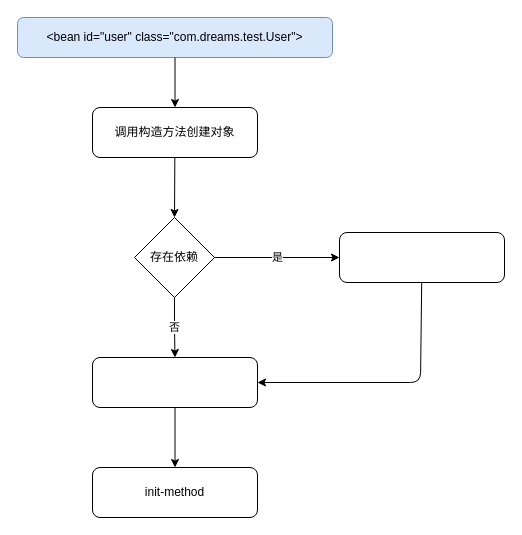
Image size: 522x535. Some labels were removed from this diagram. Each missing label, with the centre of its shape:
InitializingBean: (175,382)
依赖注入: (421,257)
